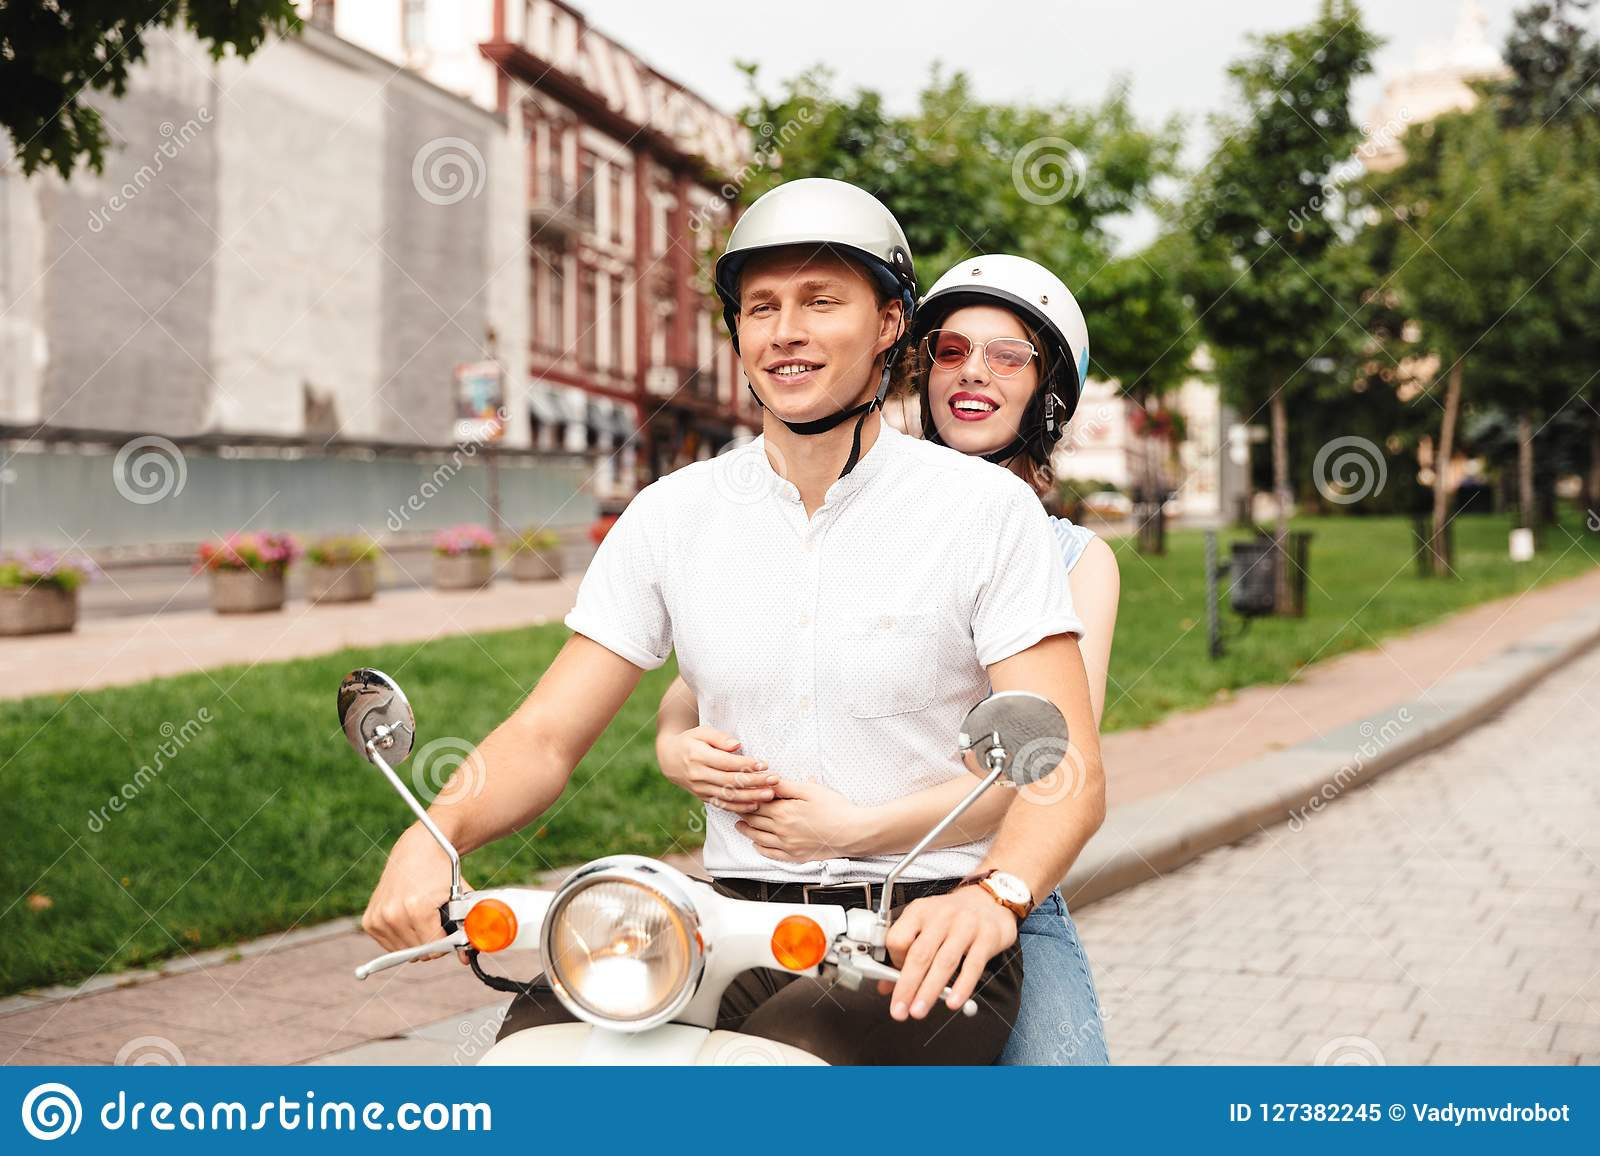helmet: (716, 159, 918, 305), (925, 219, 1093, 382)
